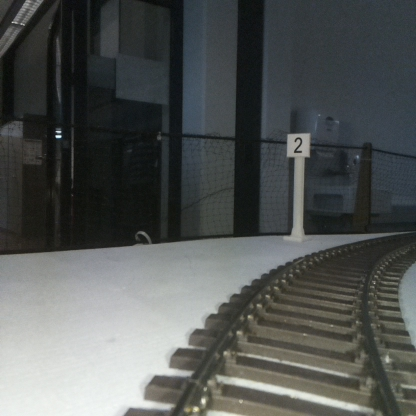white-info-2: (287, 133, 310, 242)
